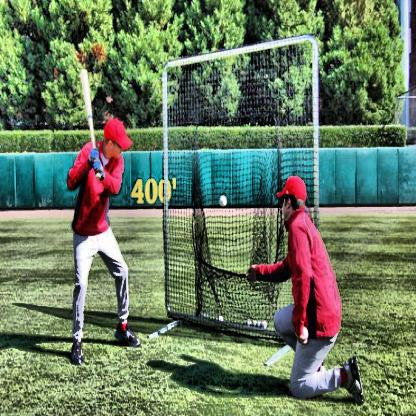baseball: (217, 194, 228, 210)
